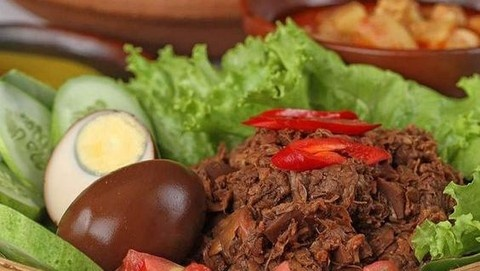gudeg: (28, 78, 438, 271)
